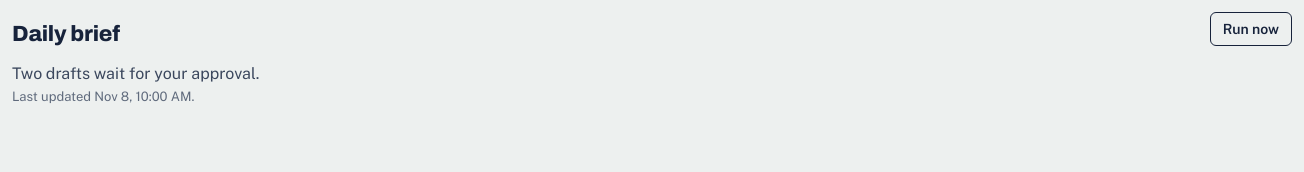
Test: BriefRunButton › keeps the last successful brief after failure and allows retry
The width and height of the screenshot is (1304, 172).
Click the button "Run now": click(1251, 29) [1210,12,1292,46]
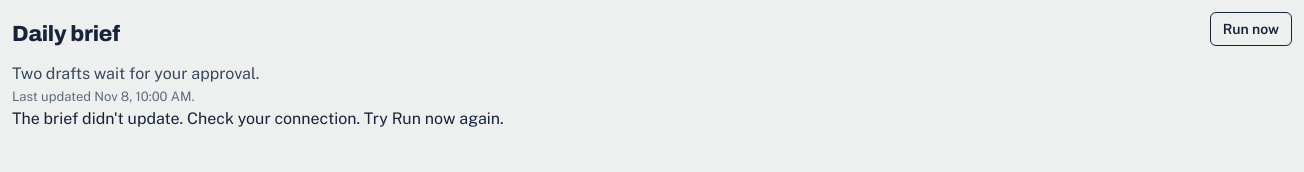
Expected: the text "Two drafts wait for your approval." is shown, [12,64,260,83]
Result: the message shows "The brief didn't update." at [12,109,187,128]
Click the button "Run now": click(1251, 29) [1210,12,1292,46]
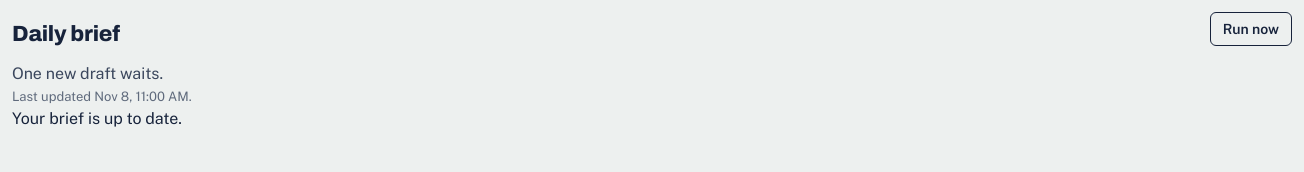
Result: the text "One new draft waits." is shown at [12,64,163,83]
